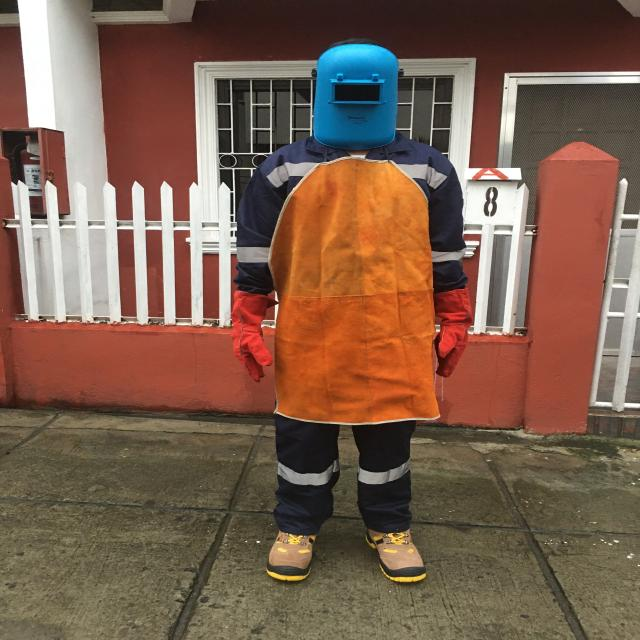with_helmet: (313, 41, 407, 150)
